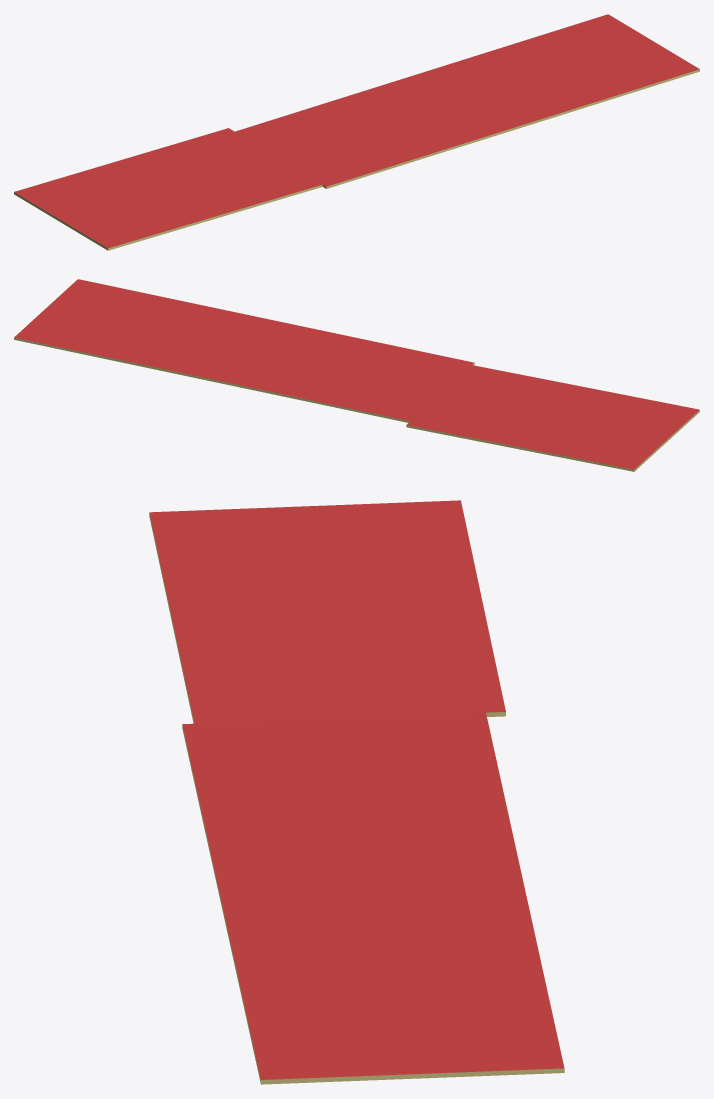
3 renders of one model, top to bottom at view 1: azimuth 30°, elevation 25°; view 2: azimuth 150°, elevation 25°; view 3: azimuth 270°, elevation 25°, orthographic. The views are drawn at different scales.
Size of the model in its own units: 27.7 by 8.21 by 0.364.
